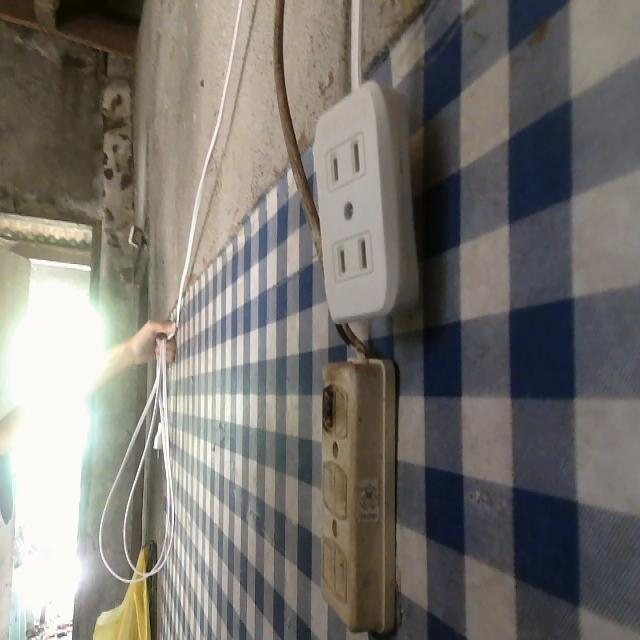-: (312, 375, 337, 437)
